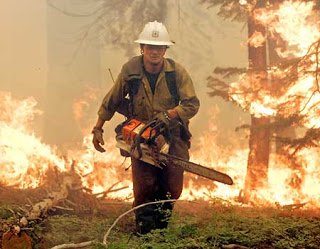fire: (7, 125, 318, 212), (249, 8, 319, 211)
